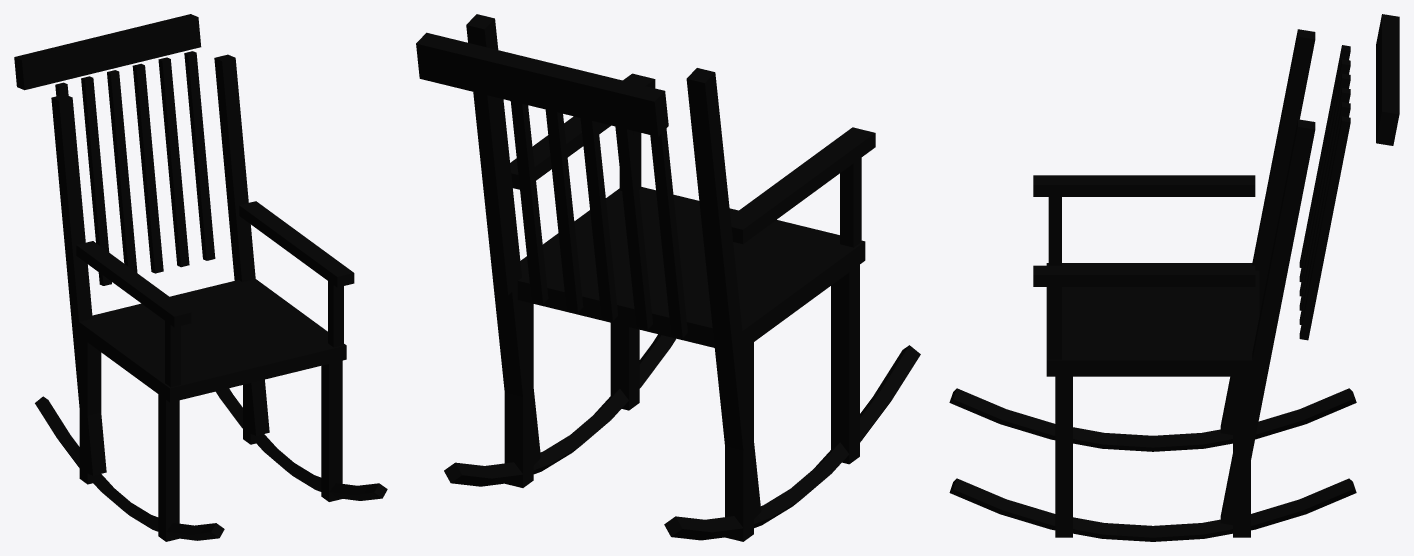
The model's file is SM_rocking_chair_pine.fbx.
The picture shows the model from 3 angles, left to right: view 1: azimuth 30°, elevation 25°; view 2: azimuth 150°, elevation 25°; view 3: azimuth 270°, elevation 25°; orthographic projection. The views are drawn at different scales.
Visible parts, largest first — view 1: rocking_chair_pine; view 2: rocking_chair_pine; view 3: rocking_chair_pine.
Part boxes in pixels (bbox=[...]): rocking_chair_pine: bbox=[14, 14, 387, 541]; rocking_chair_pine: bbox=[416, 14, 920, 541]; rocking_chair_pine: bbox=[949, 14, 1399, 541].
Bounding box in the file's own units: 0.53 × 1.08 × 1.01.
